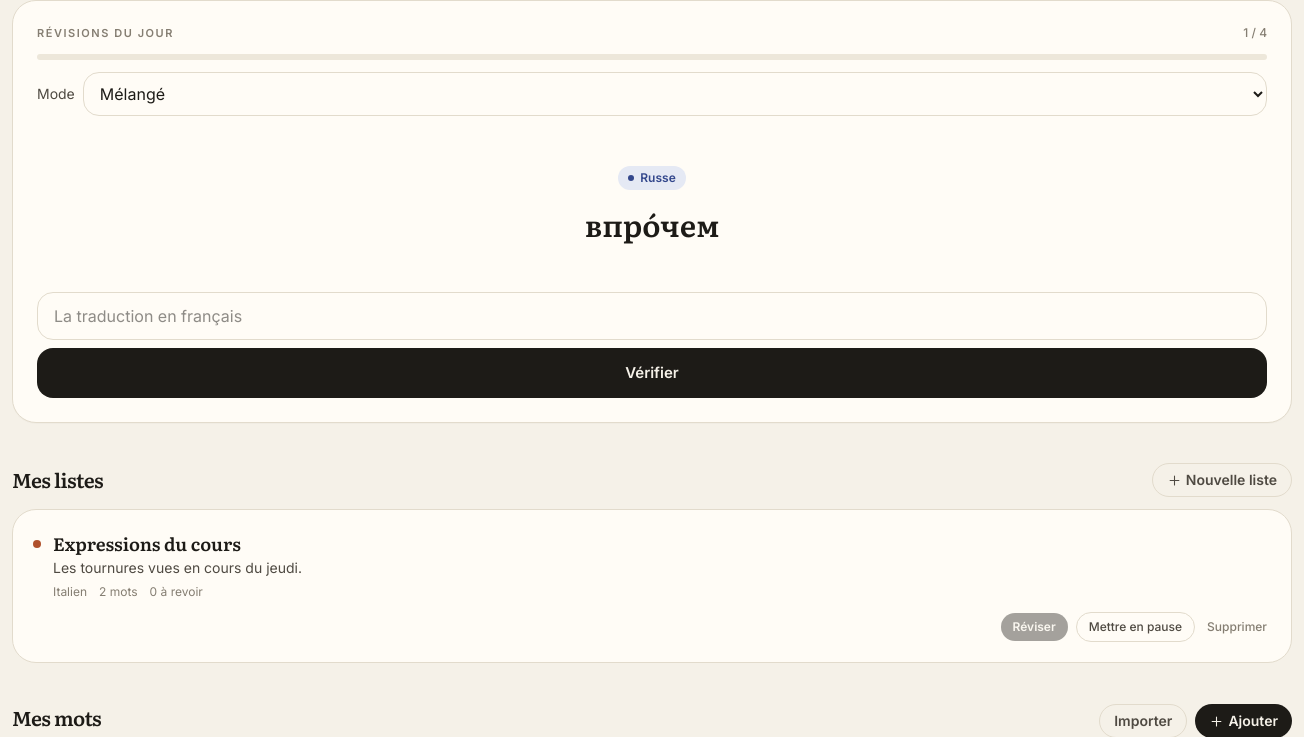
Test: VocabularyView › shows the next interval on each grade button
Select "Cartes" in the dropdown labelled "Mode": (675, 94) [83,72,1267,116]
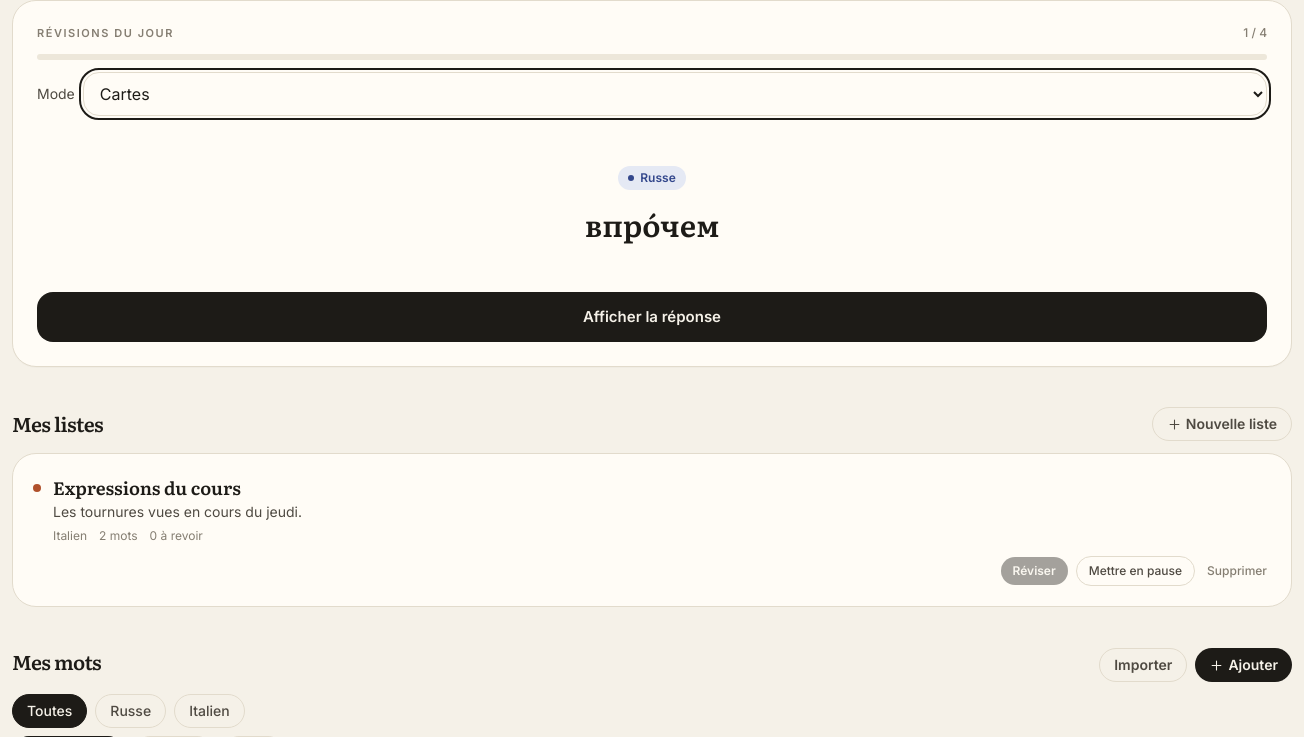
Click the button "Afficher la réponse": (652, 317) [37,292,1267,342]
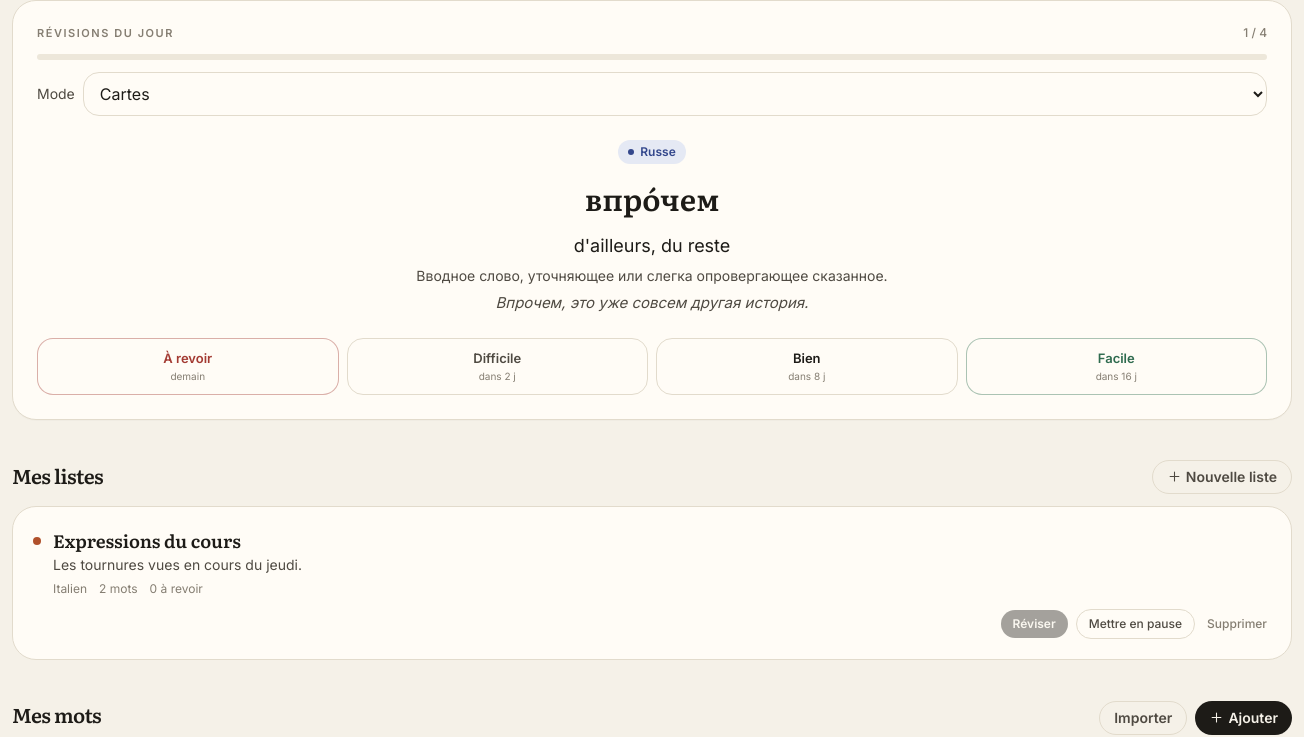
Now the button "À revoir demain" is shown, box [37,338,338,394]
Now the button "Bien dans 8 j" is shown, box [656,338,958,394]
